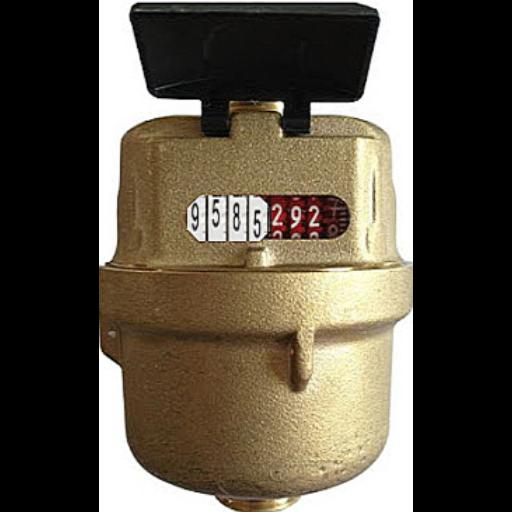2: (271, 194, 288, 240), (311, 196, 328, 241)
5: (250, 195, 268, 241), (209, 196, 227, 241)
7: (332, 197, 353, 240)
8: (228, 195, 246, 241)
9: (186, 195, 204, 241), (292, 194, 307, 240)
border_water_meter_number: (185, 194, 353, 242)
